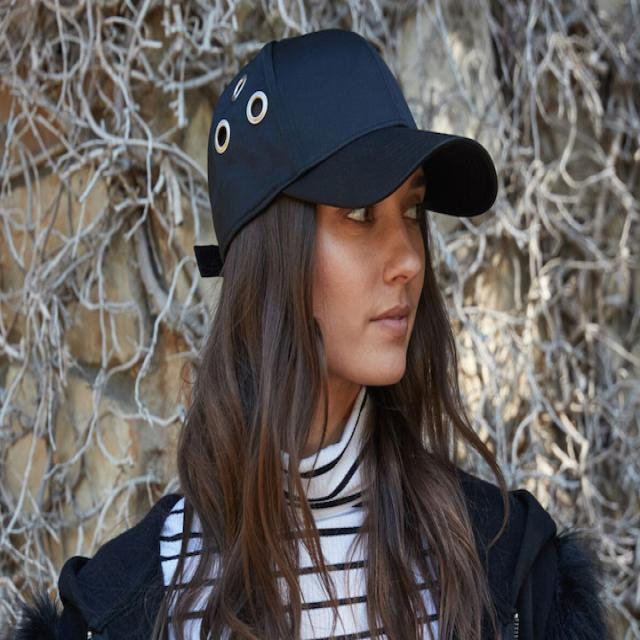3_gorra: (206, 28, 497, 257)
